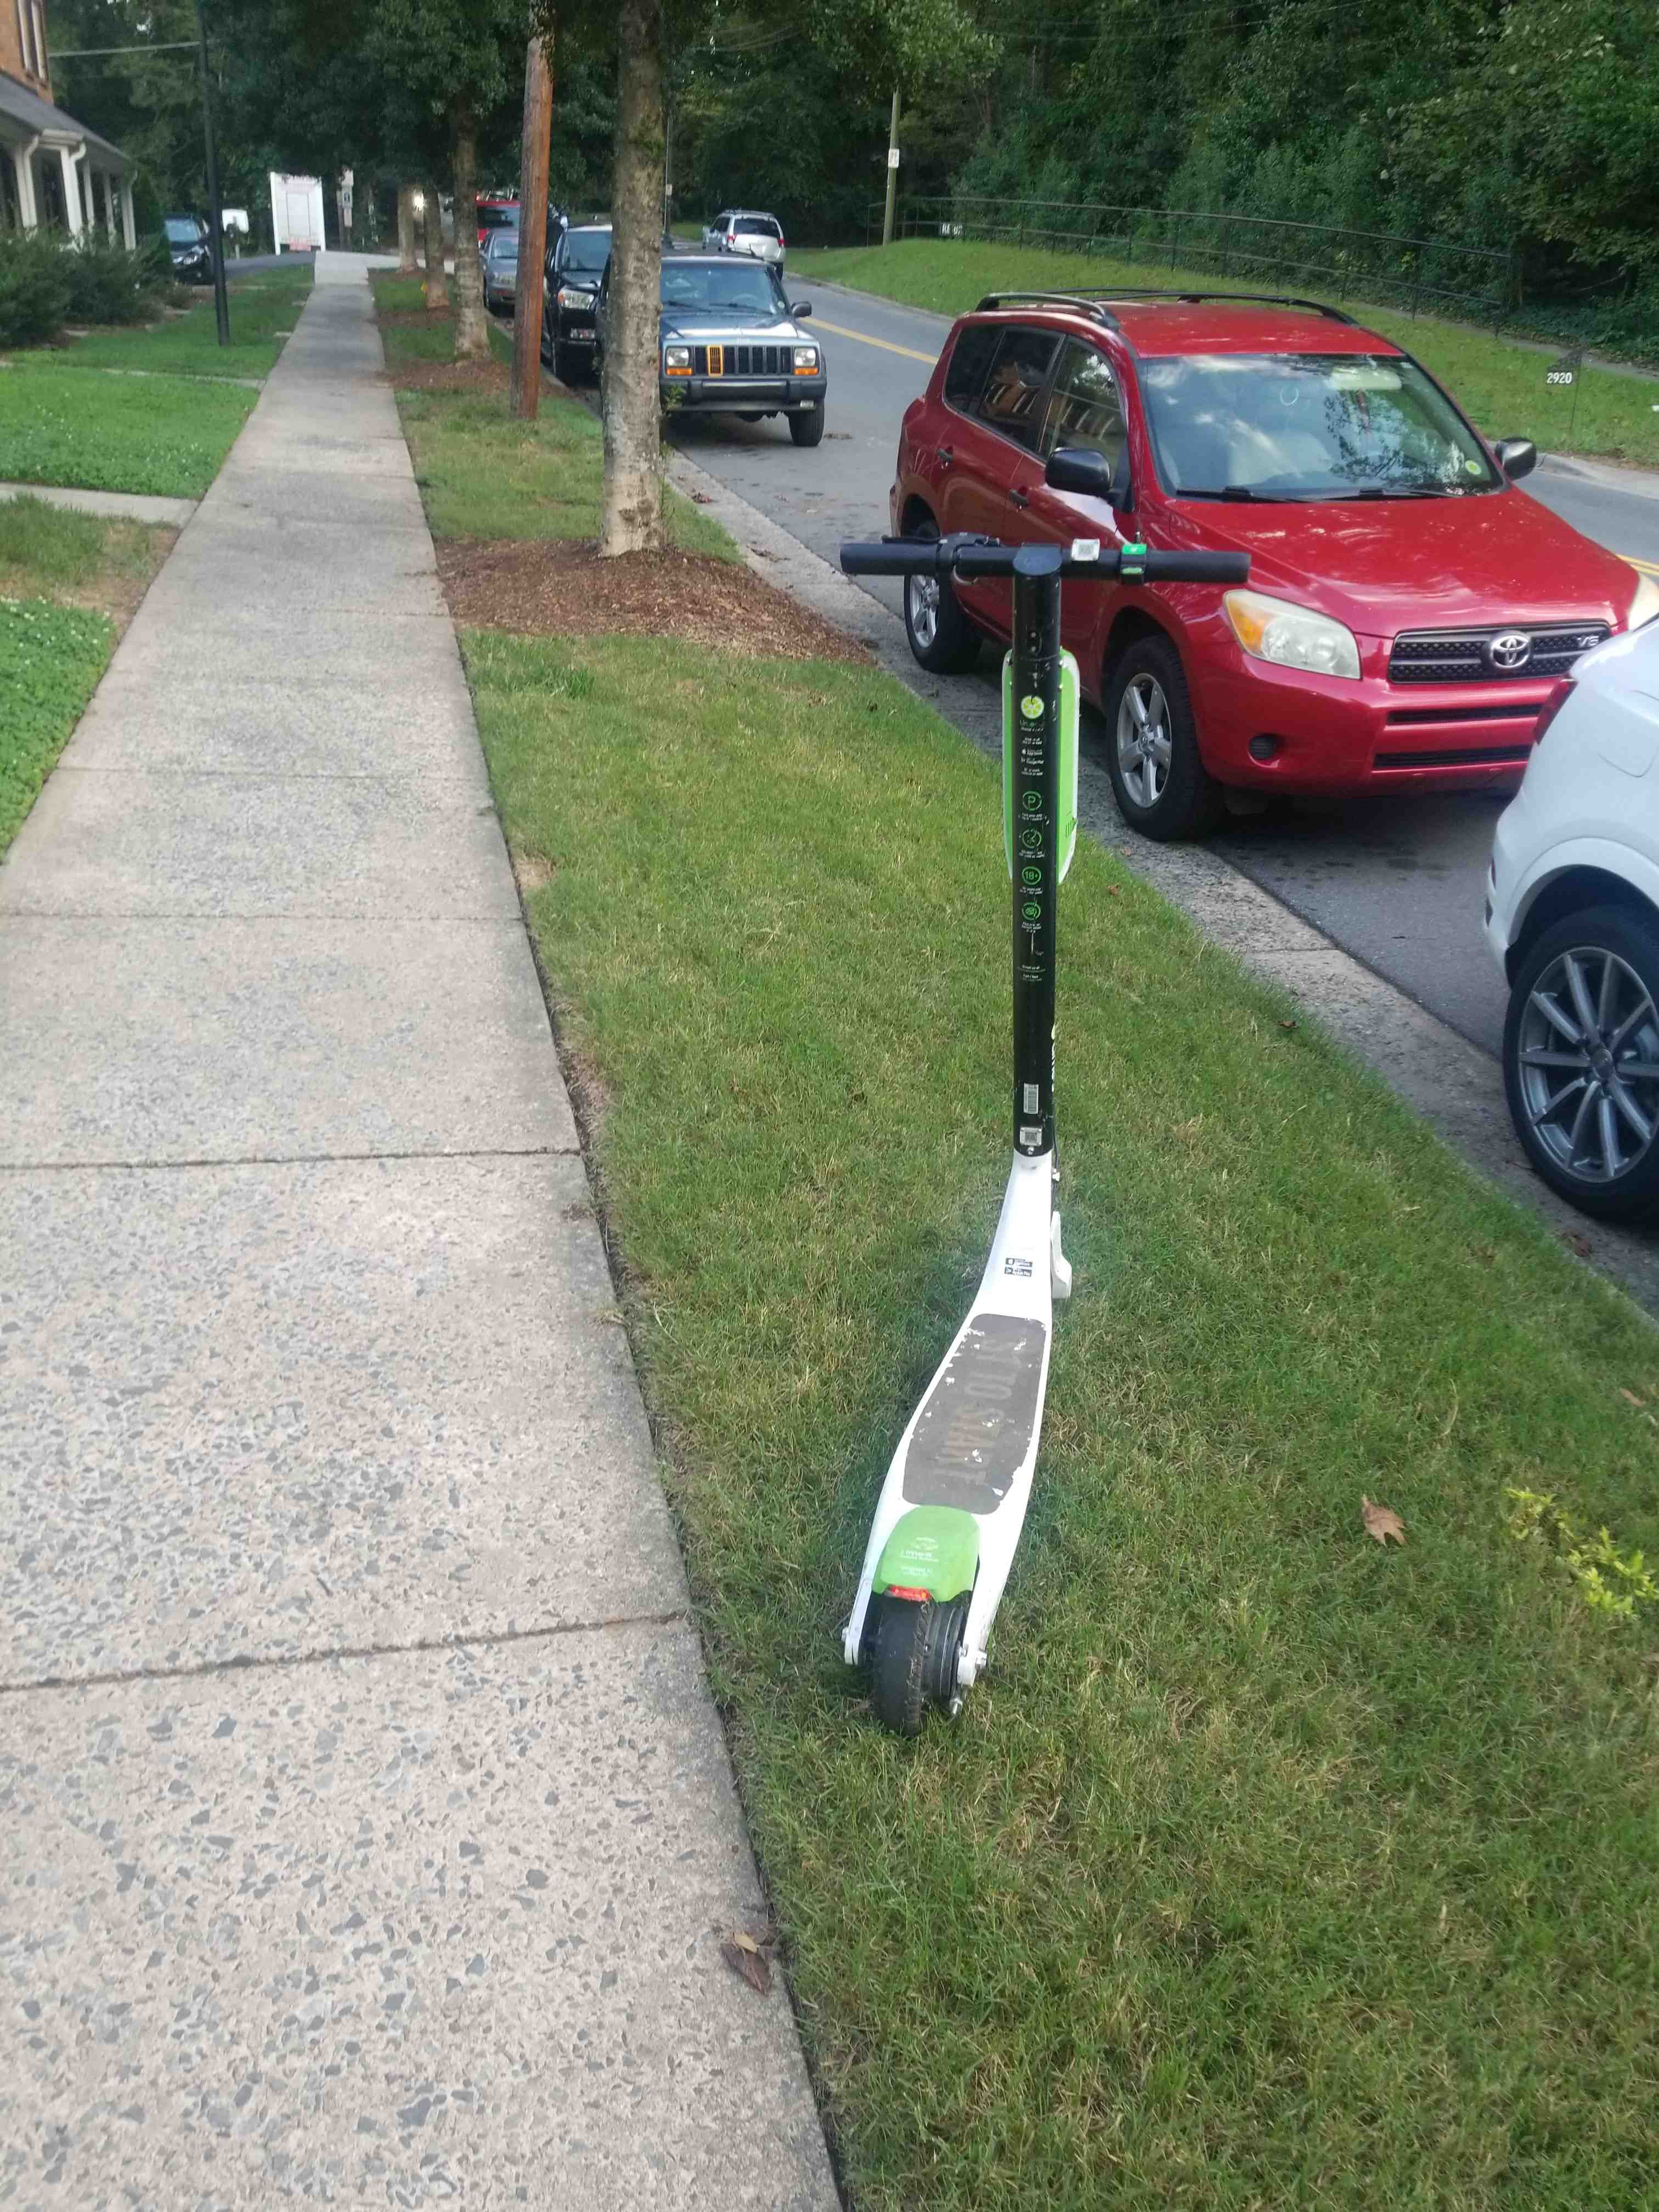scooter: (721, 503, 1209, 1754)
